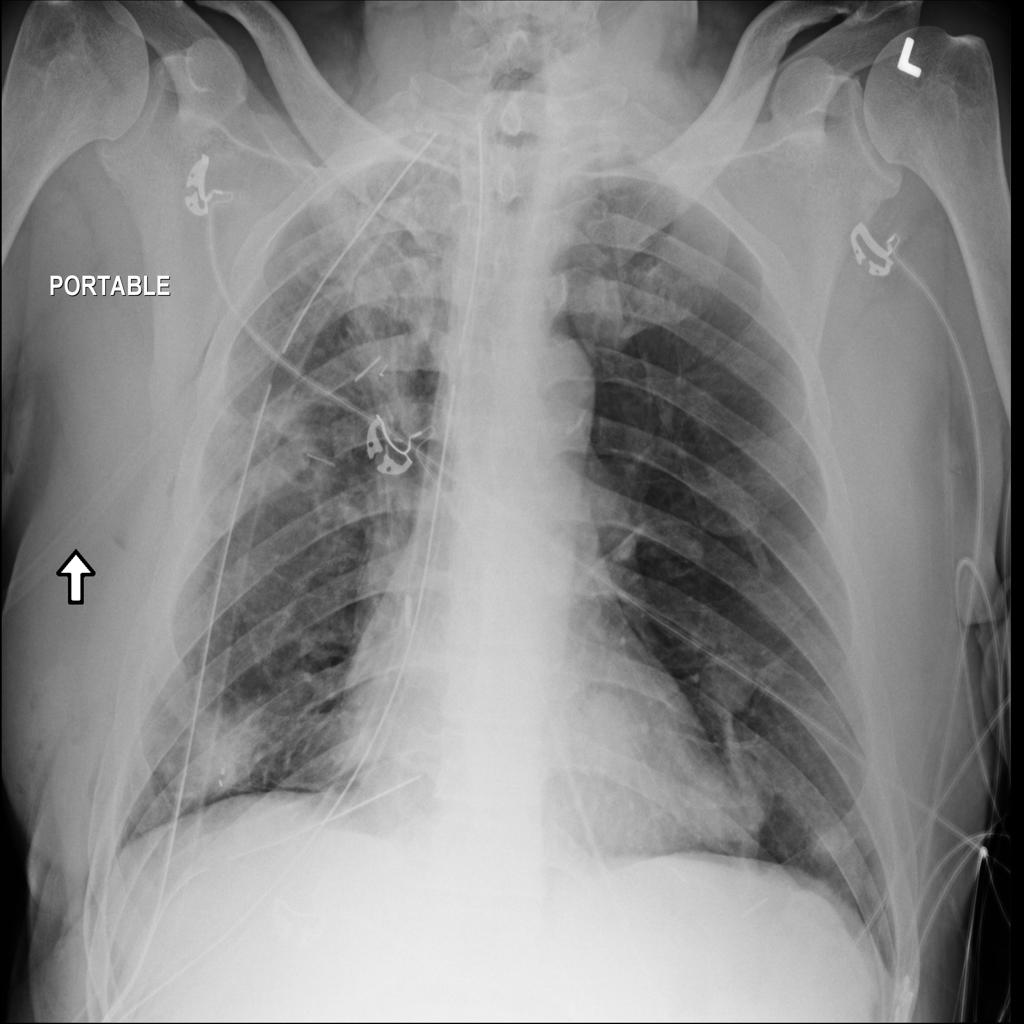nodule: (161, 692, 281, 813), (667, 743, 784, 859), (556, 675, 660, 786), (692, 638, 765, 726), (792, 804, 866, 876)
